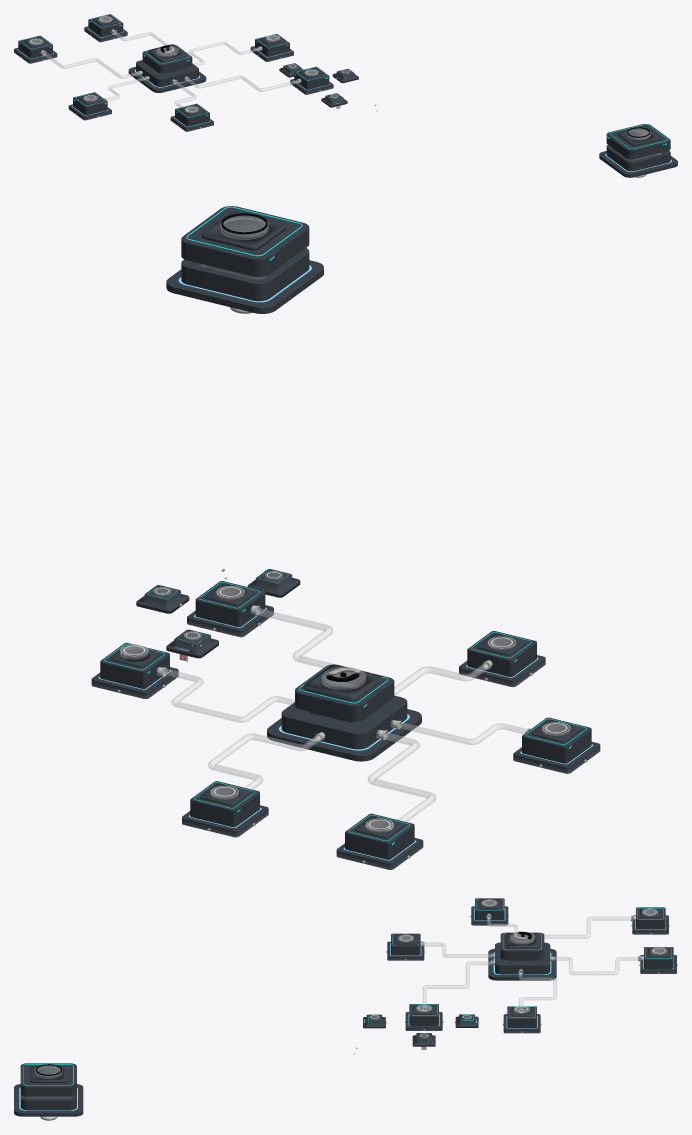
File: Synehcroncity(copy)_newHub(13).glb
3 views of the same model, one above another, from view 1: azimuth 30°, elevation 25°; view 2: azimuth 150°, elevation 25°; view 3: azimuth 270°, elevation 25° (orthographic). The views are drawn at different scales.
Visible parts, largest first — view 1: Synechron_platform, Synechron_platform.001, Sub_platform_CTO_Office, Sub_platform_Ai, Sub_platform_Data, Sub_platform_Cloud_Dev_ops, Sub_platform_Digital, Sub_platform_payments, Cube.005, Plane.006, Plane.003, Cube.014 (+1 smaller); view 2: Synechron_platform, Synechron_platform.001, Sub_platform_CTO_Office, Sub_platform_payments, Sub_platform_Digital, Sub_platform_Ai, Sub_platform_Data, Sub_platform_Cloud_Dev_ops, Cube.005, Plane.003, Plane.002, Plane.004 (+5 smaller); view 3: Synechron_platform, Synechron_platform.001, Sub_platform_Ai, Sub_platform_Cloud_Dev_ops, Sub_platform_CTO_Office, Sub_platform_Data, Sub_platform_Digital, Sub_platform_payments, Cube.005, Plane.002, Plane.006, Plane.003 (+2 smaller).
Part boxes in pixels (x1=…): Synechron_platform: x1=599, y1=124, x2=677, y2=177; Synechron_platform.001: x1=128, y1=44, x2=206, y2=92; Sub_platform_CTO_Office: x1=68, y1=92, x2=111, y2=120; Sub_platform_Ai: x1=170, y1=103, x2=213, y2=131; Sub_platform_Data: x1=290, y1=66, x2=333, y2=94; Sub_platform_Cloud_Dev_ops: x1=250, y1=34, x2=293, y2=61; Sub_platform_Digital: x1=84, y1=14, x2=127, y2=42; Sub_platform_payments: x1=14, y1=35, x2=57, y2=63; Cube.005: x1=617, y1=126, x2=660, y2=145; Plane.006: x1=186, y1=75, x2=298, y2=91; Plane.003: x1=43, y1=52, x2=138, y2=78; Cube.014: x1=148, y1=44, x2=187, y2=62; Synechron_platform: x1=166, y1=206, x2=323, y2=313; Synechron_platform.001: x1=267, y1=665, x2=421, y2=761; Sub_platform_CTO_Office: x1=513, y1=717, x2=600, y2=773; Sub_platform_payments: x1=336, y1=813, x2=423, y2=869; Sub_platform_Digital: x1=182, y1=781, x2=268, y2=837; Sub_platform_Ai: x1=459, y1=631, x2=545, y2=687; Sub_platform_Data: x1=187, y1=581, x2=273, y2=637; Sub_platform_Cloud_Dev_ops: x1=91, y1=642, x2=178, y2=698; Cube.005: x1=201, y1=212, x2=286, y2=250; Plane.003: x1=368, y1=732, x2=435, y2=827; Plane.002: x1=208, y1=733, x2=320, y2=789; Plane.004: x1=163, y1=669, x2=294, y2=722; Synechron_platform: x1=14, y1=1063, x2=83, y2=1116; Synechron_platform.001: x1=488, y1=932, x2=556, y2=980; Sub_platform_Ai: x1=387, y1=933, x2=424, y2=960; Sub_platform_Cloud_Dev_ops: x1=503, y1=1006, x2=540, y2=1033; Sub_platform_CTO_Office: x1=471, y1=898, x2=508, y2=925; Sub_platform_Data: x1=405, y1=1004, x2=442, y2=1030; Sub_platform_Digital: x1=640, y1=947, x2=676, y2=973; Sub_platform_payments: x1=632, y1=907, x2=668, y2=934; Cube.005: x1=30, y1=1066, x2=67, y2=1082; Plane.002: x1=554, y1=957, x2=637, y2=974; Plane.006: x1=423, y1=961, x2=494, y2=1003; Plane.003: x1=544, y1=917, x2=630, y2=938.
Bounding box in the file's own units: 60.56 × 7.03 × 78.7.
